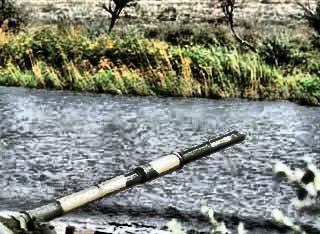tanks: (1, 134, 245, 234), (63, 229, 112, 234)
